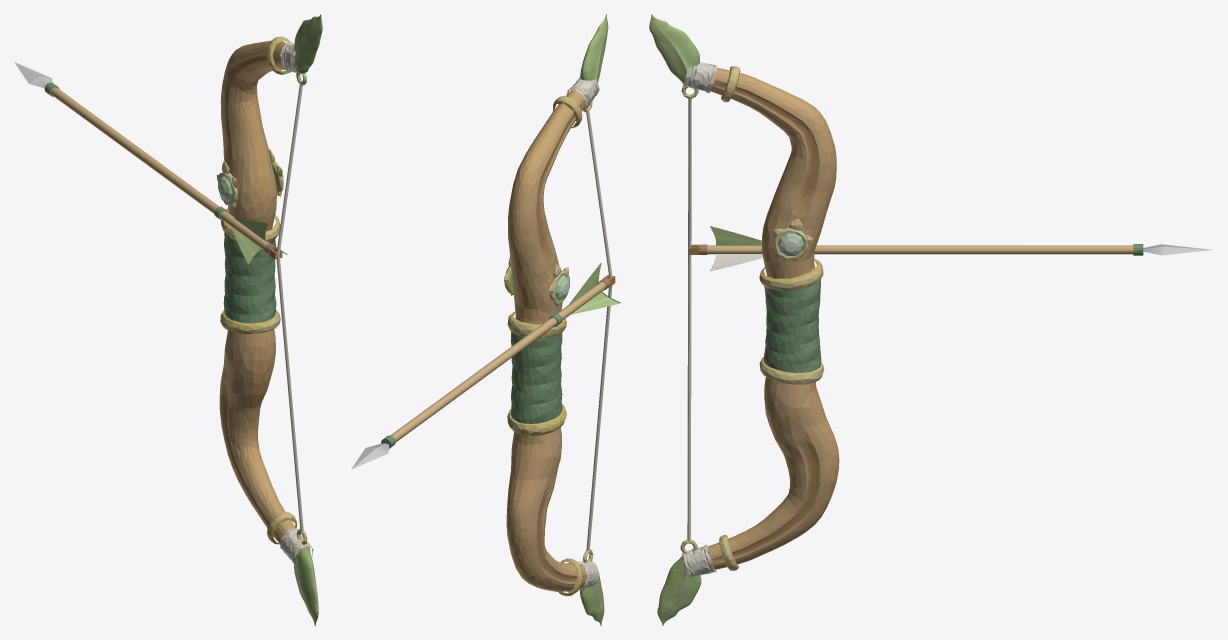
The model's file is leaf_bow_roblox.glb.
3 renders of one model, left to right at view 1: azimuth 30°, elevation 25°; view 2: azimuth 150°, elevation 25°; view 3: azimuth 270°, elevation 25°, orthographic.
Visible parts, largest first — view 1: Bow, Arrow, Leaves, Trim, String; view 2: Bow, Arrow, Trim, Leaves, String; view 3: Bow, Arrow, Leaves, Trim, String.
Part boxes in pixels (x1=…): Bow: x1=219, y1=40, x2=308, y2=560; Arrow: x1=14, y1=62, x2=287, y2=264; Leaves: x1=279, y1=14, x2=322, y2=625; Trim: x1=216, y1=36, x2=307, y2=544; String: x1=276, y1=84, x2=303, y2=530; Bow: x1=506, y1=90, x2=587, y2=591; Arrow: x1=351, y1=263, x2=620, y2=469; Trim: x1=504, y1=96, x2=593, y2=596; Leaves: x1=566, y1=14, x2=608, y2=625; String: x1=586, y1=111, x2=612, y2=551; Bow: x1=683, y1=67, x2=839, y2=569; Arrow: x1=688, y1=226, x2=1212, y2=271; Leaves: x1=649, y1=14, x2=717, y2=625; Trim: x1=680, y1=66, x2=824, y2=570; String: x1=687, y1=98, x2=691, y2=540.
Size of the model in its own units: 0.1382 by 1.11 by 0.9286.
